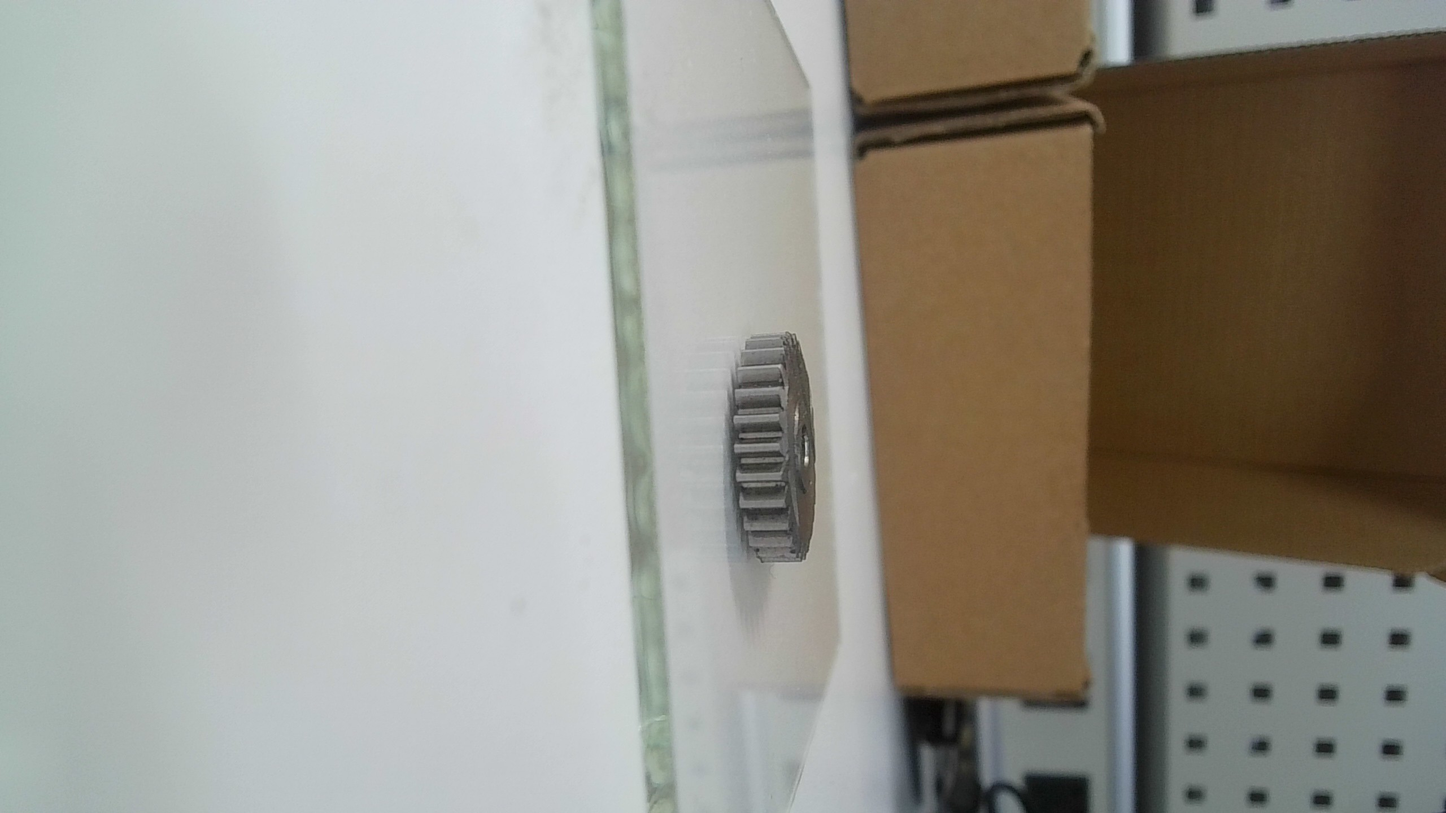gear: (722, 327, 823, 566)
